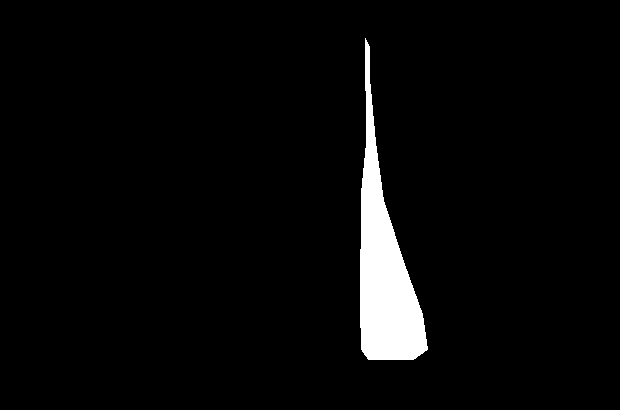type5: (353, 33, 430, 362)
